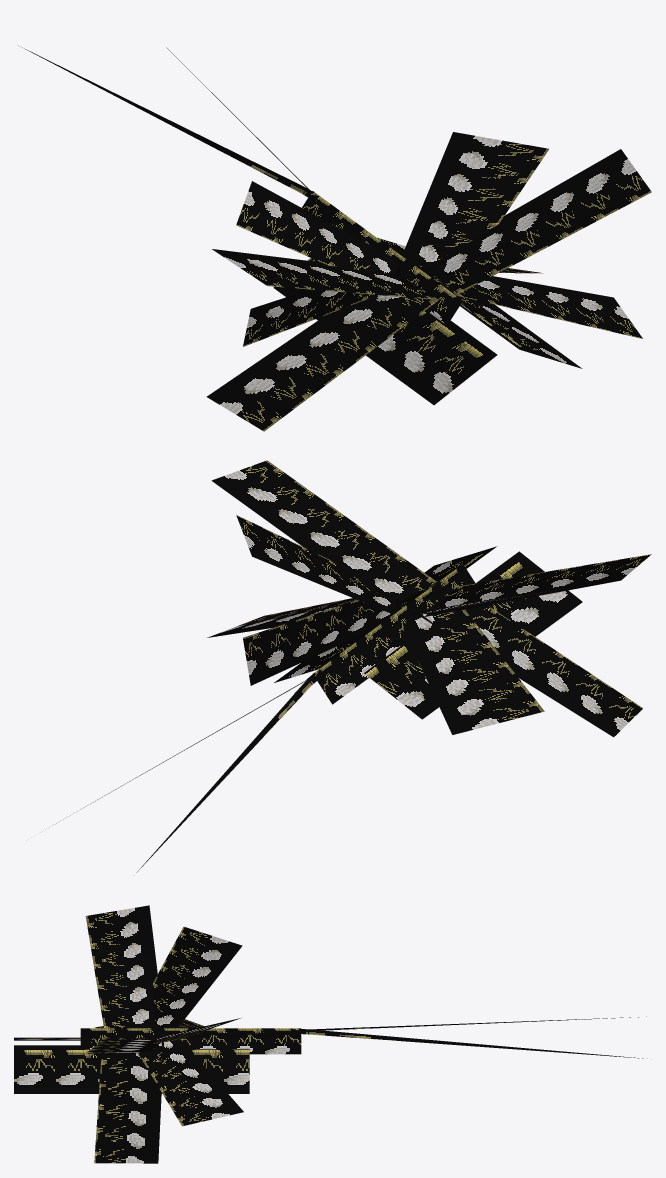
The model's file is 5036musi46.gltf.
3 views of the same model, one above another, from view 1: azimuth 30°, elevation 25°; view 2: azimuth 150°, elevation 25°; view 3: azimuth 270°, elevation 25° (orthographic). The views are drawn at different scales.
Parts seen in each view (by area): view 1: 5036musi46; view 2: 5036musi46; view 3: 5036musi46.
Boxes of the visible parts, <box> form: 5036musi46: <box>18,45,651,431</box>; 5036musi46: <box>45,460,651,872</box>; 5036musi46: <box>14,905,646,1163</box>.
Bounding box in the file's own units: 0.3345 × 0.124 × 0.615.
3 materials, 3 textured.
